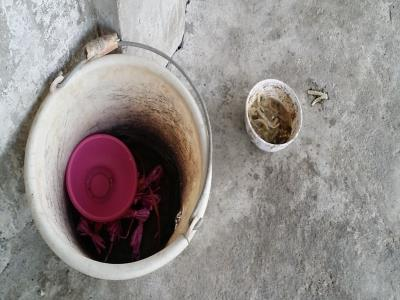bowl: (64, 132, 139, 224), (240, 76, 305, 154)
bucket: (20, 47, 218, 285)
